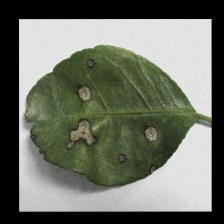canker: (25, 49, 175, 183)
